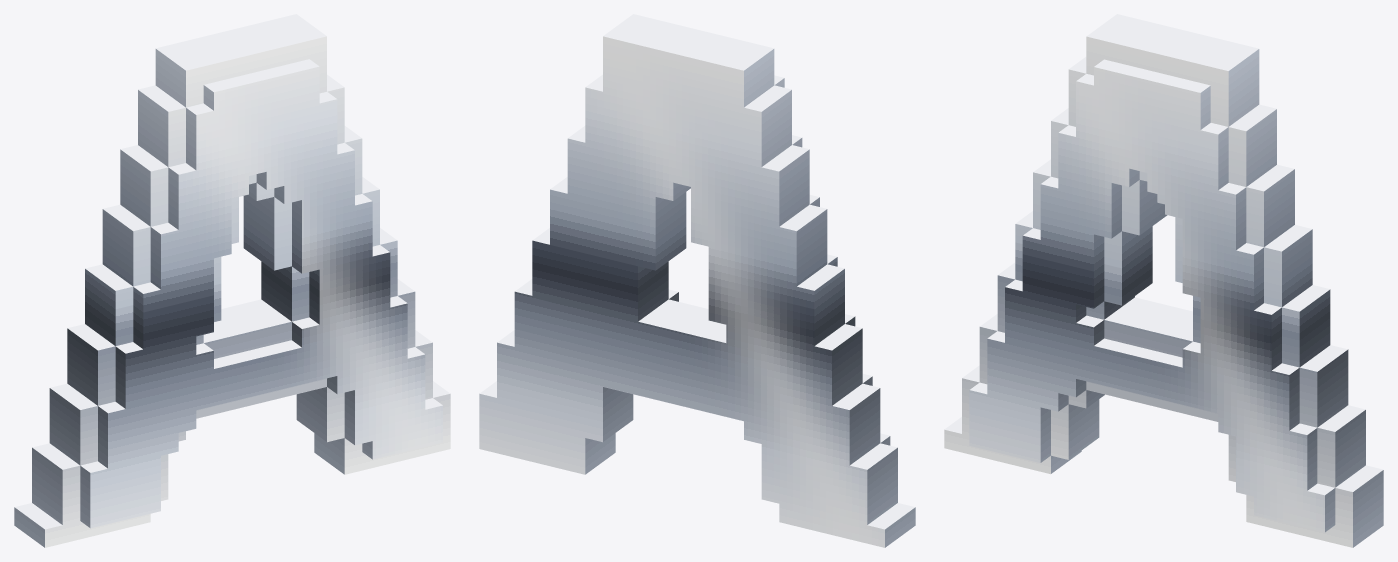
3 views of the same model, side by side, from view 1: azimuth 30°, elevation 25°; view 2: azimuth 150°, elevation 25°; view 3: azimuth 330°, elevation 25° (orthographic).
Parts seen in each view (by area): view 1: Letter A; view 2: Letter A; view 3: Letter A.
Part boxes in pixels (box(x1,y1,x2,y2)): Letter A: box(14, 14, 450, 547); Letter A: box(479, 14, 915, 547); Letter A: box(944, 14, 1383, 547).
Bounding box in the file's own units: 1.44 × 1.5 × 0.25.
1 material, 1 textured.
